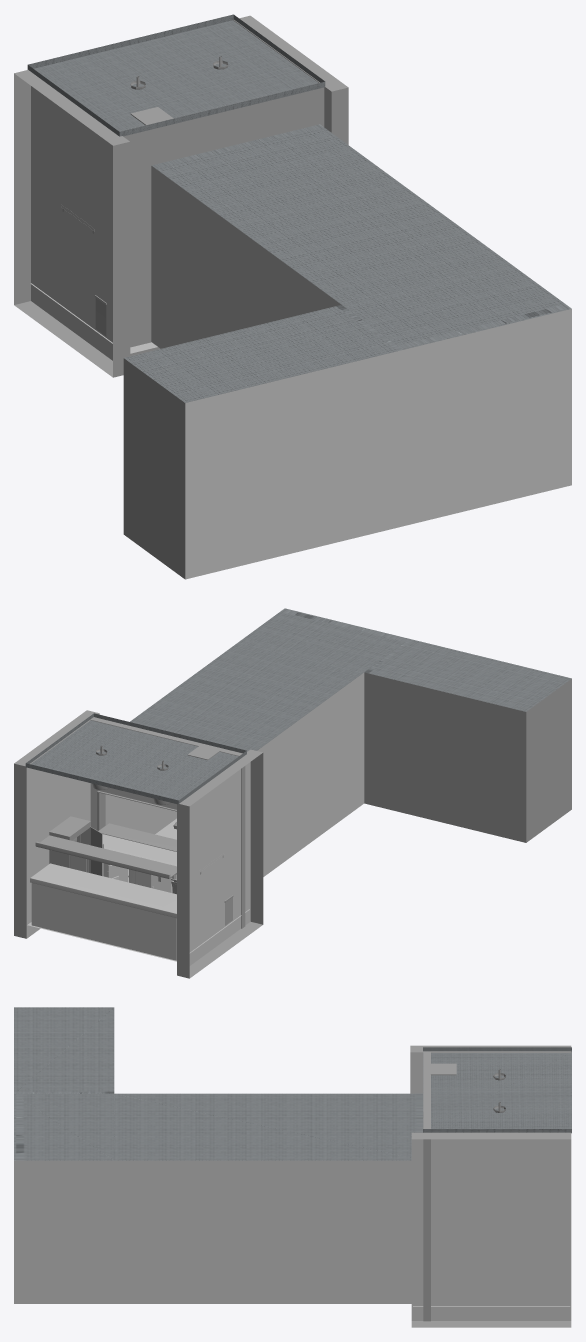
The model's file is full_kitchen_1_24.fbx.
3 views of the same model, one above another, from view 1: azimuth 30°, elevation 25°; view 2: azimuth 150°, elevation 25°; view 3: azimuth 270°, elevation 25° (orthographic). The views are drawn at different scales.
Parts seen in each view (by area): view 1: pCube196, pCube6, pCube12, pCube4, pCube5; view 2: pCube196, pCube6, pCube12, polySurface26, pCube5, pCube4, pCylinder38, pCube98, counter_front1, pCube40; view 3: pCube196, pCube5, pCube12, pCube4, pCube6.
Part boxes in pixels (bbox=[...]): pCube196: bbox=[123, 124, 571, 579]; pCube6: bbox=[14, 70, 130, 377]; pCube12: bbox=[27, 14, 325, 136]; pCube4: bbox=[123, 87, 324, 356]; pCube5: bbox=[233, 15, 348, 144]; pCube196: bbox=[105, 608, 571, 876]; pCube6: bbox=[177, 749, 263, 978]; pCube12: bbox=[25, 713, 246, 804]; polySurface26: bbox=[30, 863, 176, 960]; pCube5: bbox=[14, 710, 99, 938]; pCube4: bbox=[90, 717, 245, 928]; pCylinder38: bbox=[35, 835, 176, 881]; pCube98: bbox=[97, 791, 176, 851]; counter_front1: bbox=[102, 834, 176, 893]; pCube40: bbox=[49, 816, 90, 872]; pCube196: bbox=[14, 1007, 422, 1303]; pCube5: bbox=[411, 1132, 571, 1327]; pCube12: bbox=[423, 1047, 571, 1133]; pCube4: bbox=[423, 1052, 430, 1321]; pCube6: bbox=[410, 1045, 571, 1093].
Size of the model in its own units: 7.3 by 4.12 by 10.64.
